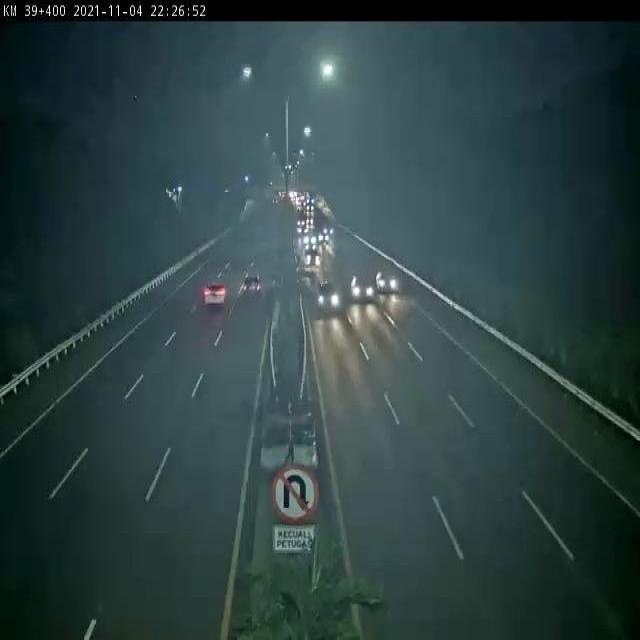car: (316, 276, 341, 311), (346, 268, 371, 301), (203, 280, 228, 307), (376, 264, 397, 295), (240, 273, 265, 299)
